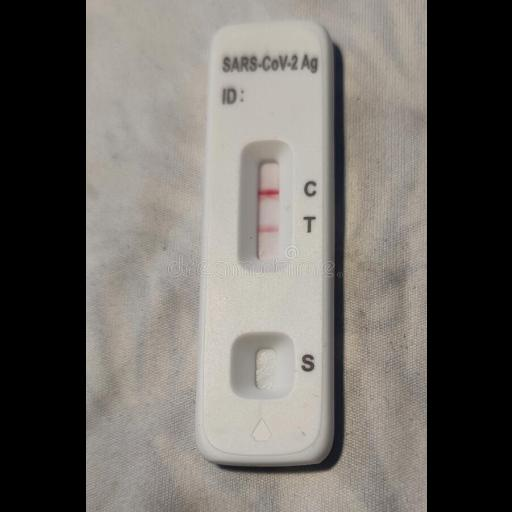Pos: (210, 28, 328, 462)
